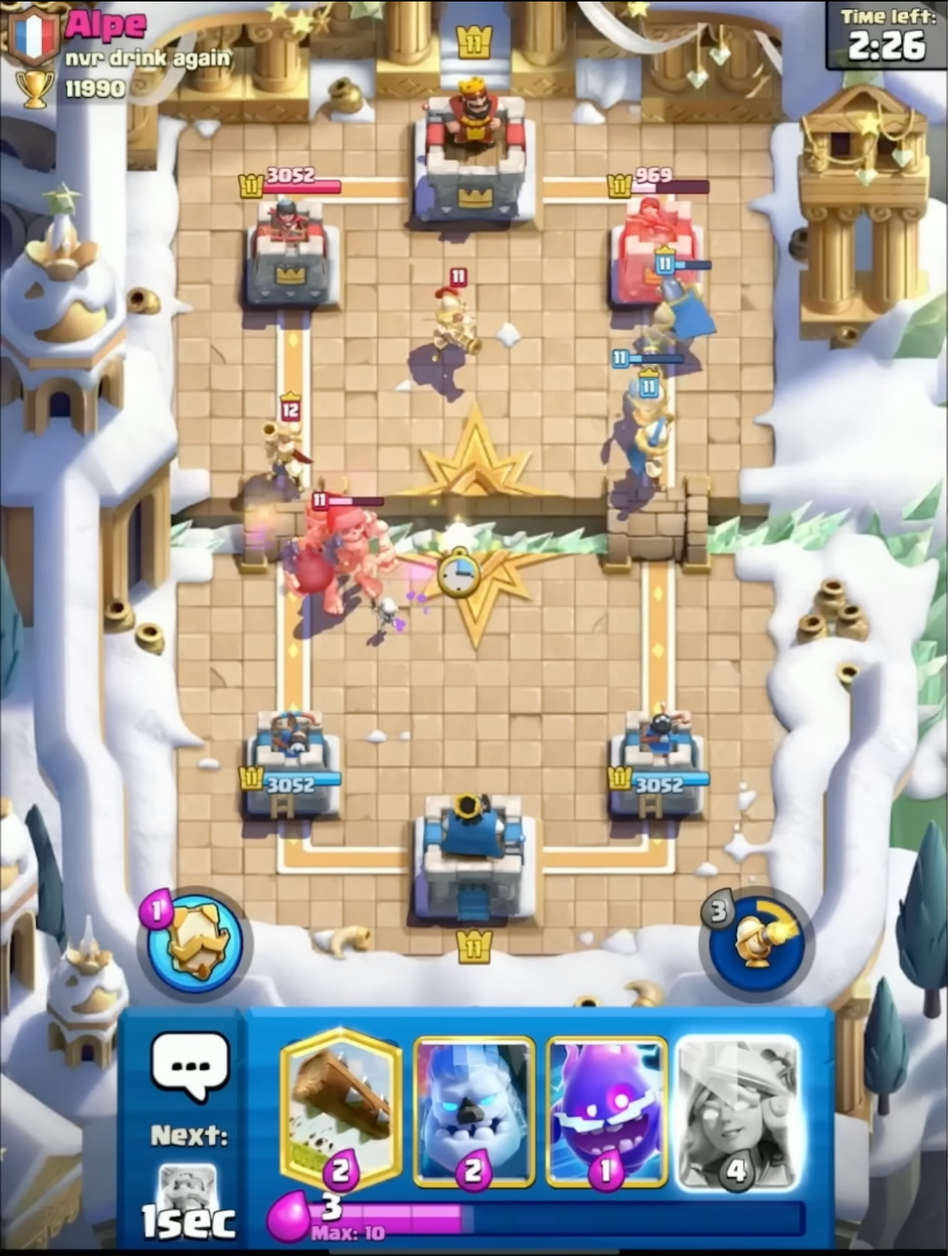hero-musketeer: (422, 260, 493, 377), (259, 384, 317, 498)
skeleton-giant: (290, 486, 400, 622)
